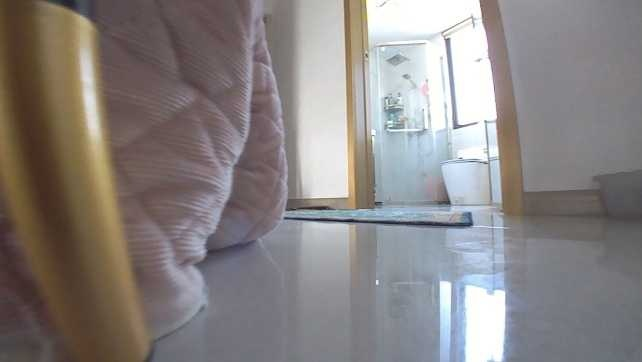blanket: (281, 203, 474, 229)
toilet: (438, 147, 493, 206)
